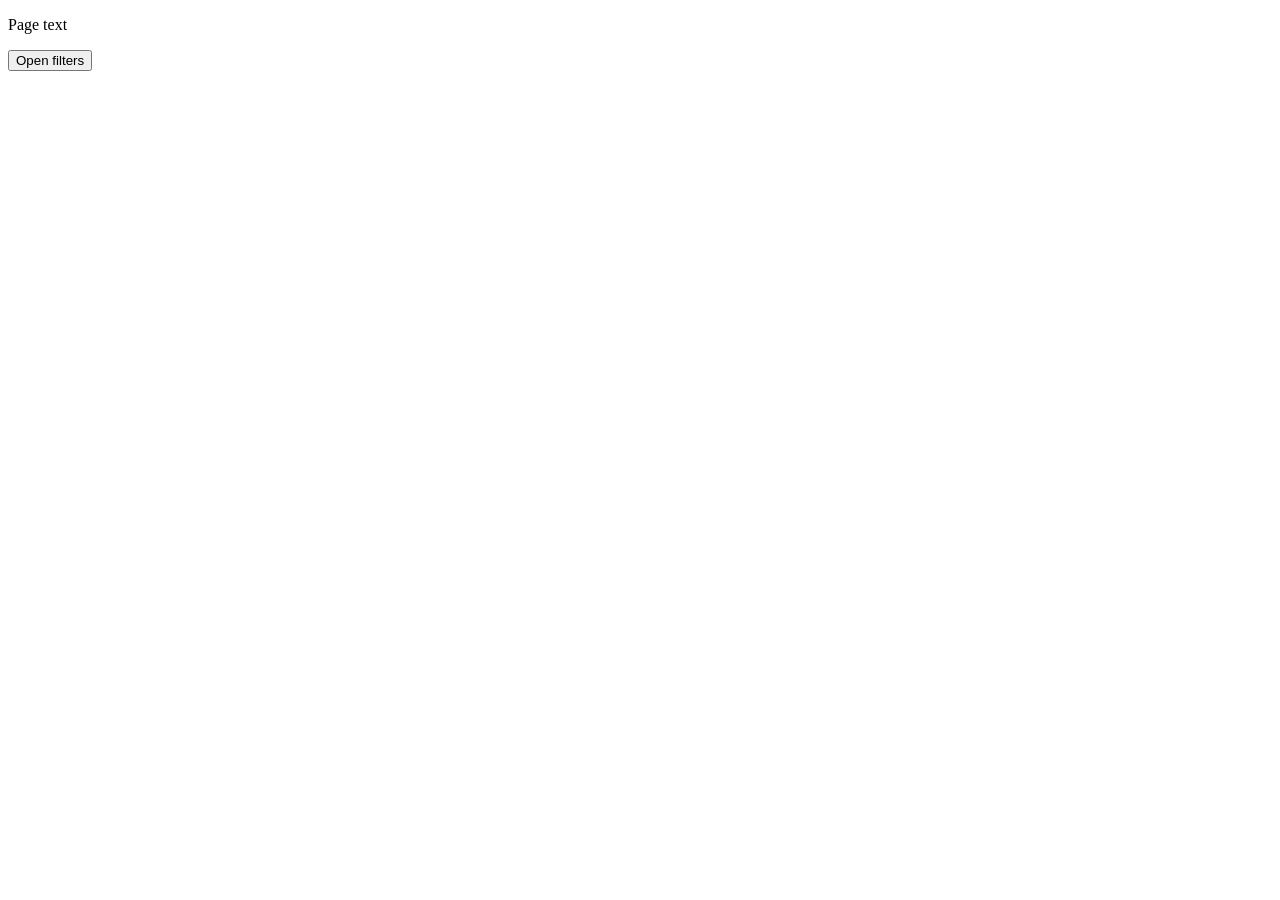
it: Popover › a pointerdown outside closes the dialog; a pointerdown inside does not
Click the button "Open filters".
click(50, 60)  # box [8,50,92,71]
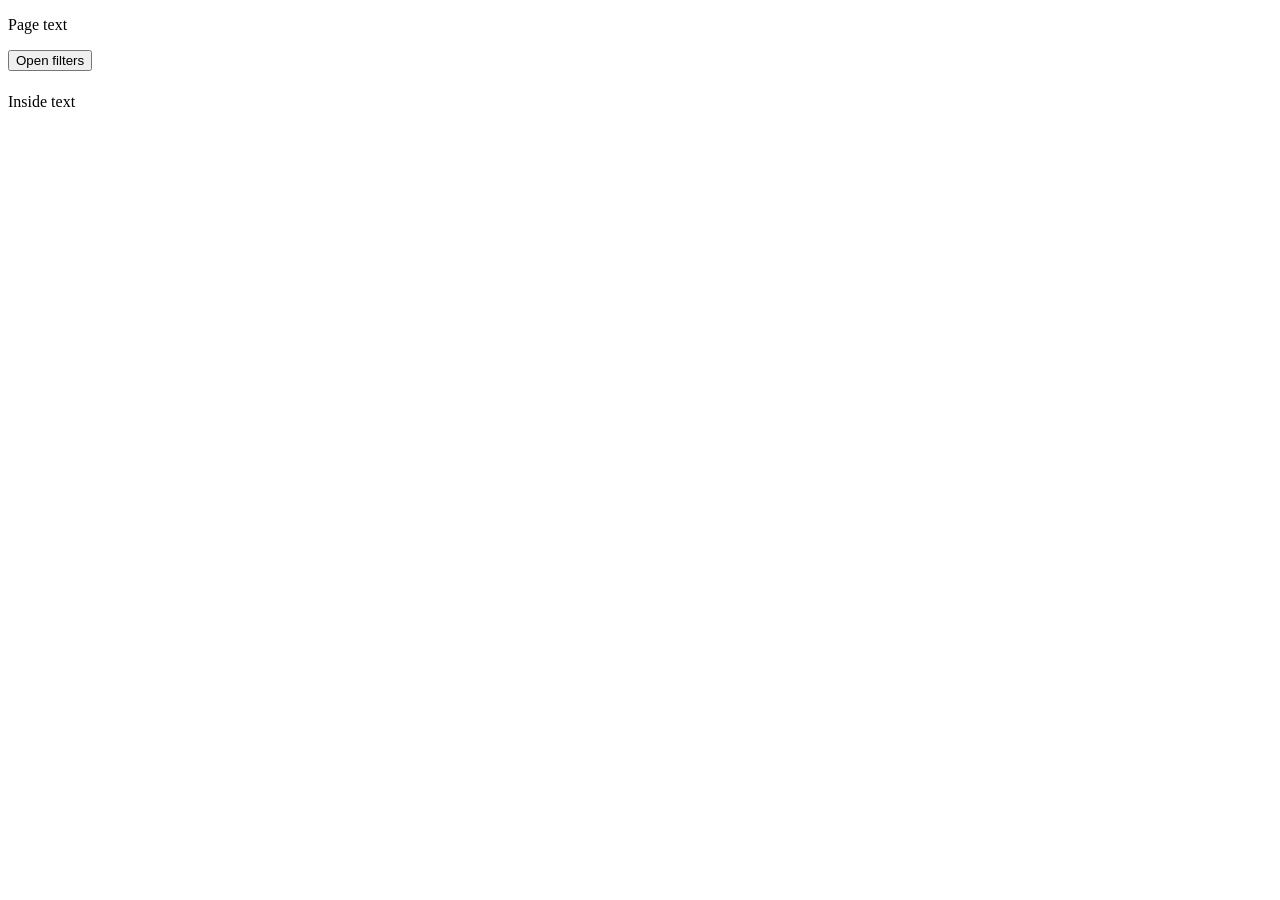
Now the dialog named "Filters" is shown
Press the mouse on the text "Inside text" at {"x": 42, "y": 102}, box [8,93,75,110]
Now the dialog named "Filters" is shown, box [8,93,75,110]
Press the mouse on the text "Page text" at {"x": 38, "y": 24}, box [8,16,67,33]
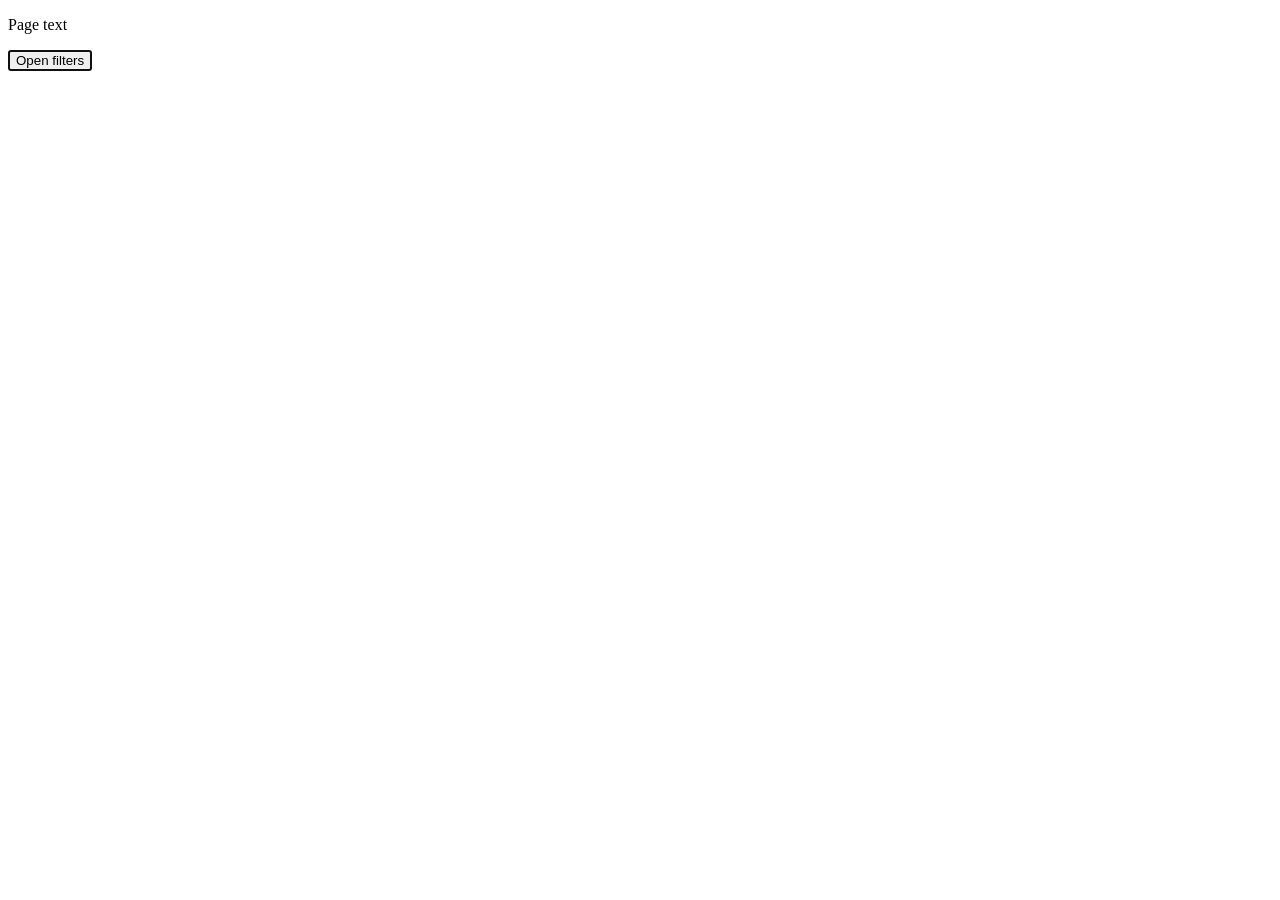
Now the dialog is gone
